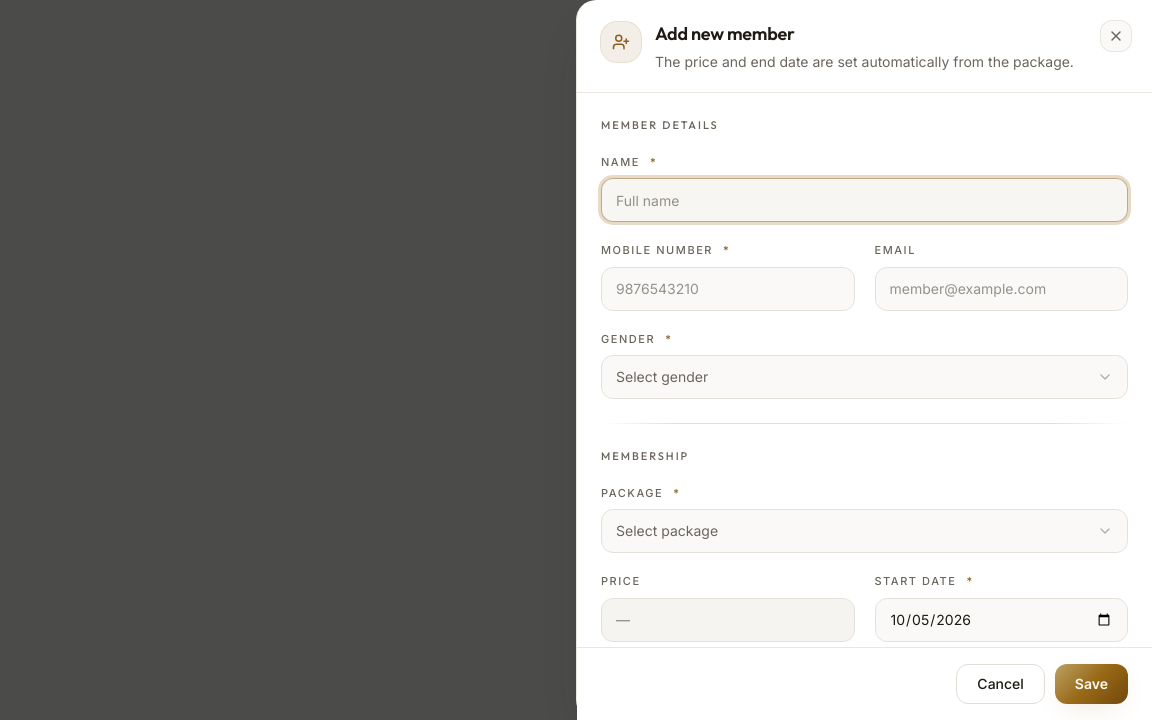
Test case: MemberFormDrawer — add › blocks submission until the mandatory fields are filled (SRS §2.3.5)
Click the button "Save".
click(1091, 684)  # box [1055,664,1128,704]
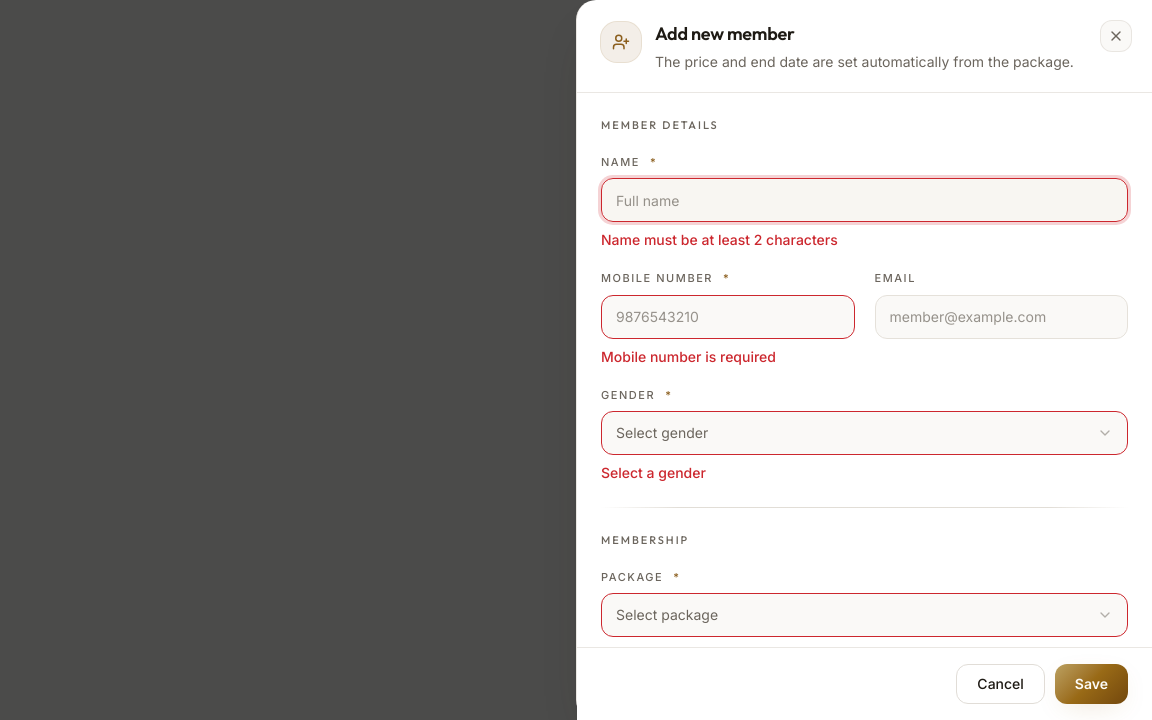
Now the text "Name must be at least 2 characters" is shown, box [601,231,838,248]
